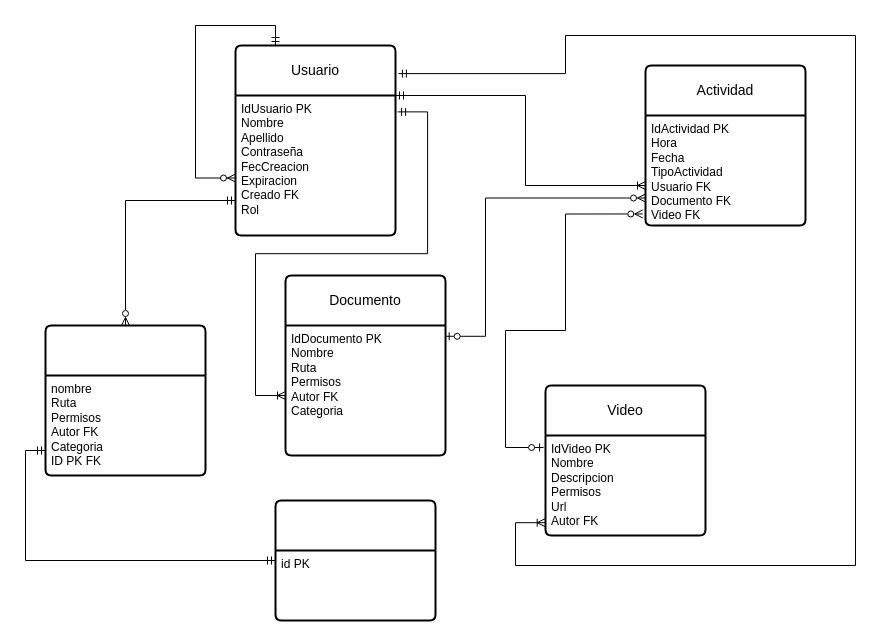
Image size: 882x639. Some labels were removed from this diagram. The box of each missing label's shape, as (x1, y1, x2, y2) in pixels:
Correlativo: (274, 499, 436, 621)
Documento sinCodigo: (44, 324, 206, 476)
